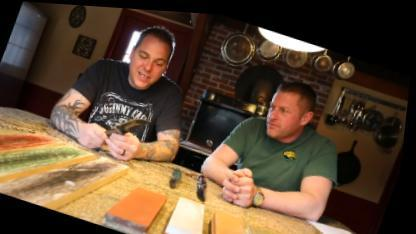knife: (90, 98, 158, 154)
